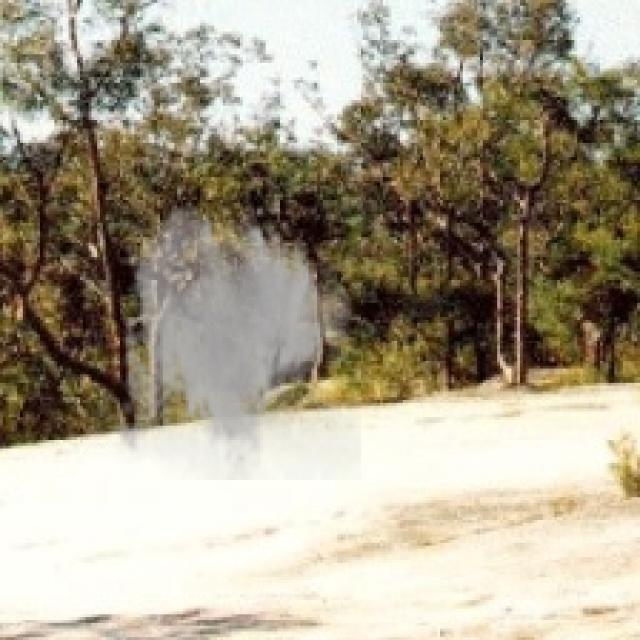smoke: (106, 200, 360, 480)
